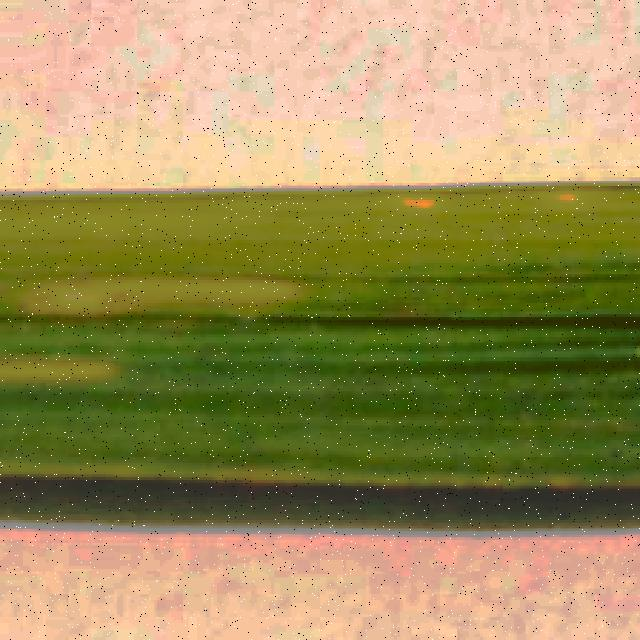unhealth: (2, 190, 640, 492)
